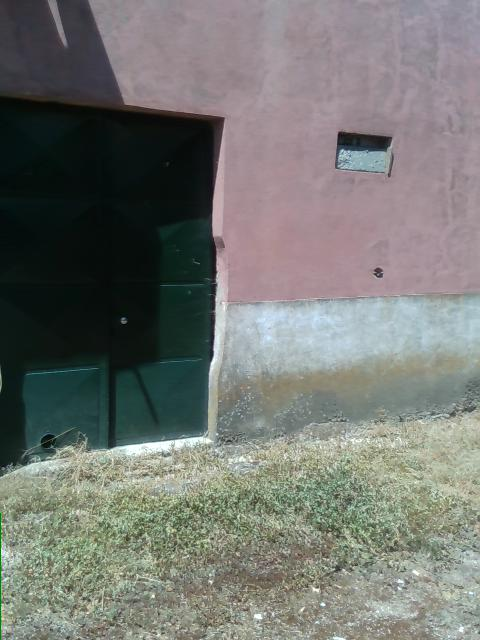door: (3, 95, 228, 472)
